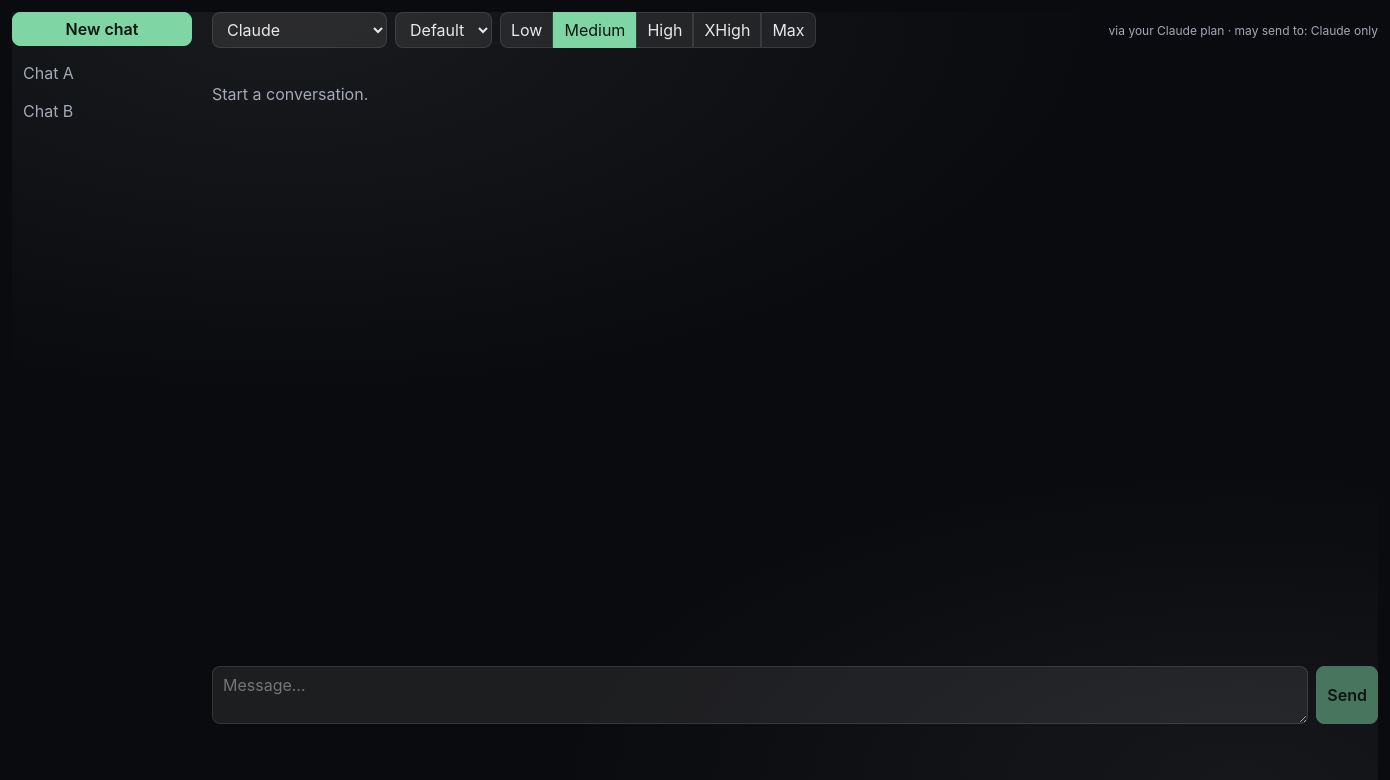
switching away from a streaming chat › drops the stream and frees the composer for the other chat
Step 1. Click the button "Chat A" → (102, 73), box [12, 56, 192, 90]
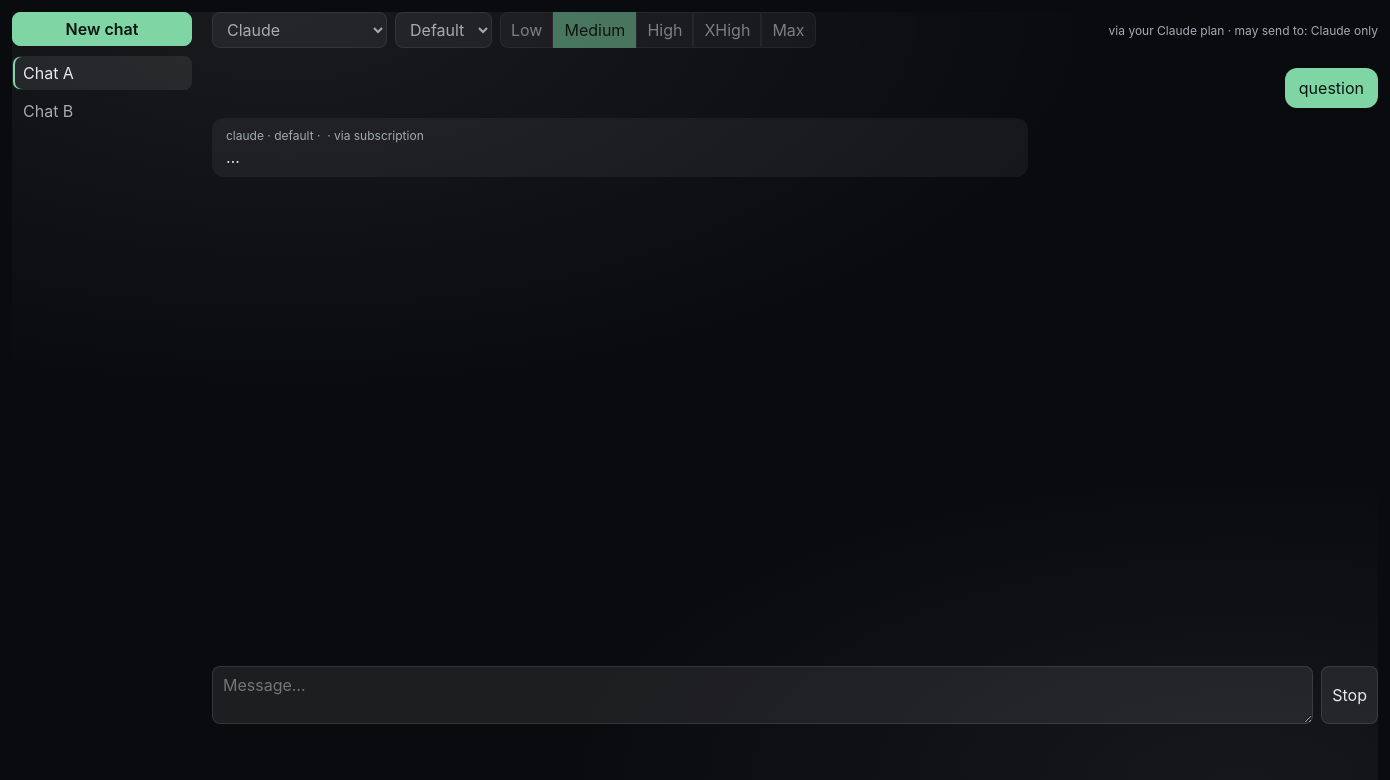
Now the button "Stop" is shown, box [1321, 666, 1378, 724]
Step 2. Click the button "Chat B" → (102, 111), box [12, 94, 192, 128]
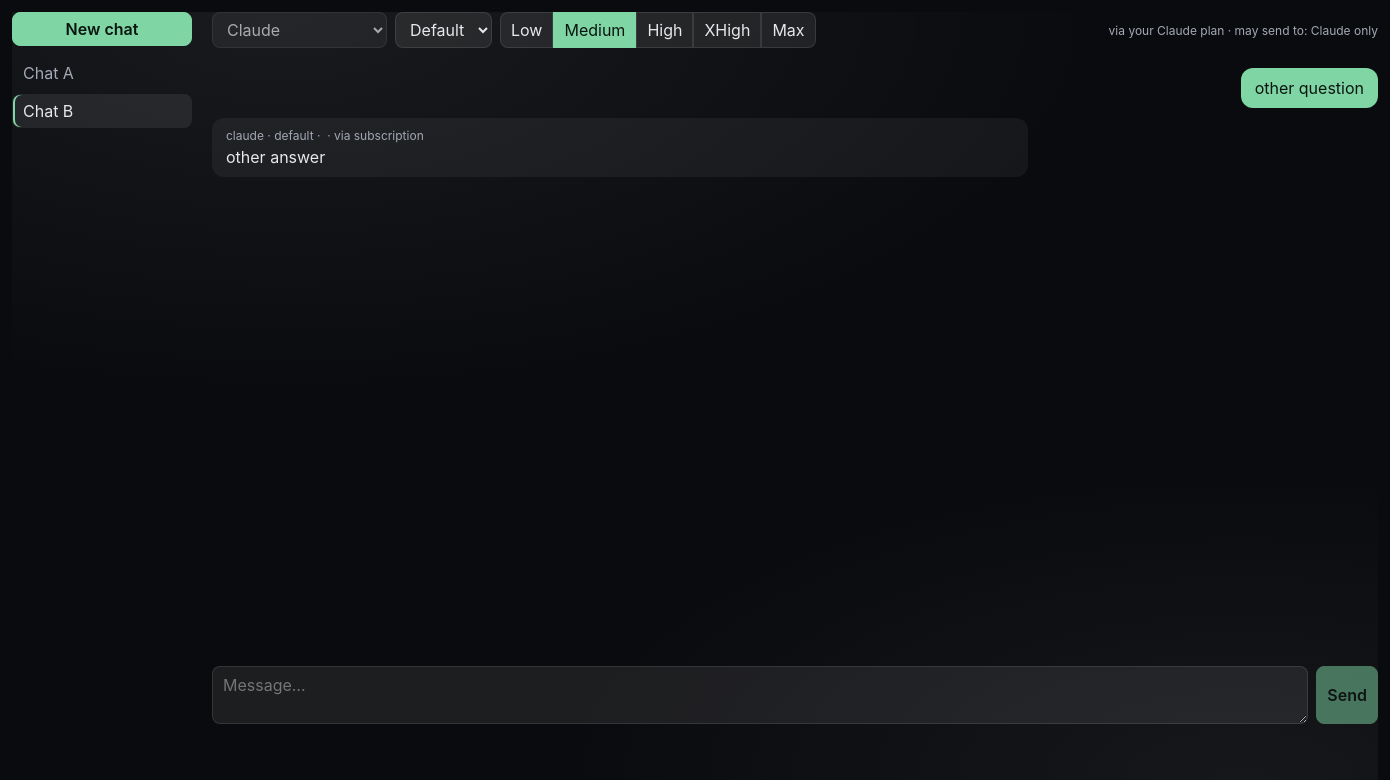
Now the text "other answer" is shown, box [226, 147, 325, 167]
Now the button "Stop" is gone
Step 3. Type "a question for B" into the text box labelled "Message" → (760, 695), box [212, 666, 1308, 724]
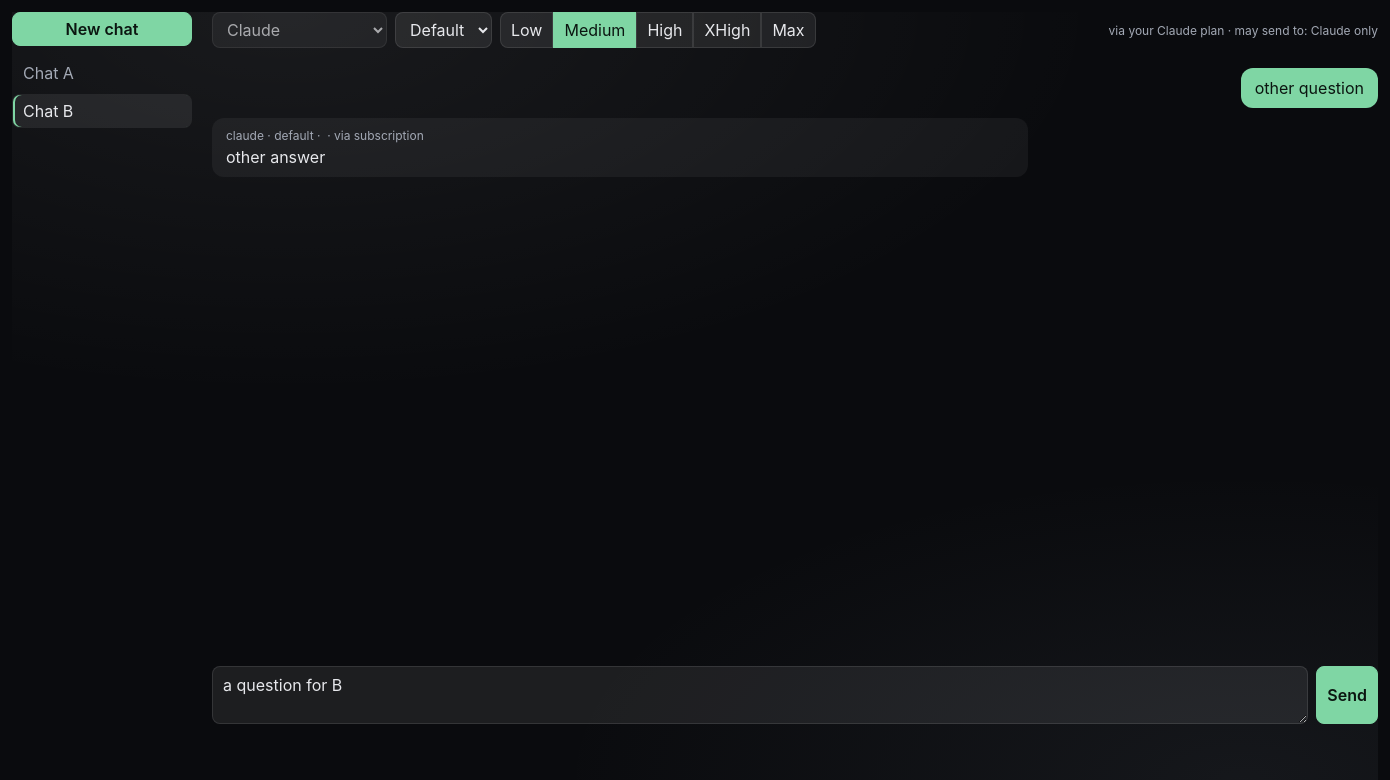
Now the button "Send" is enabled, box [1316, 666, 1378, 724]
